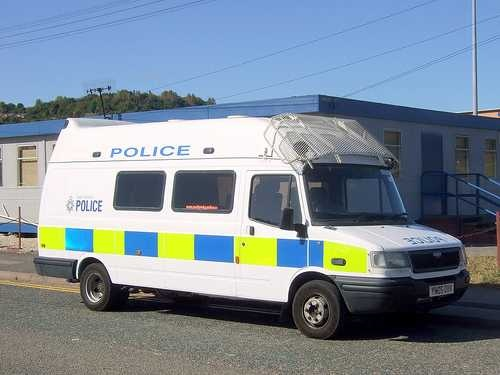Police Van: (29, 92, 480, 340)
